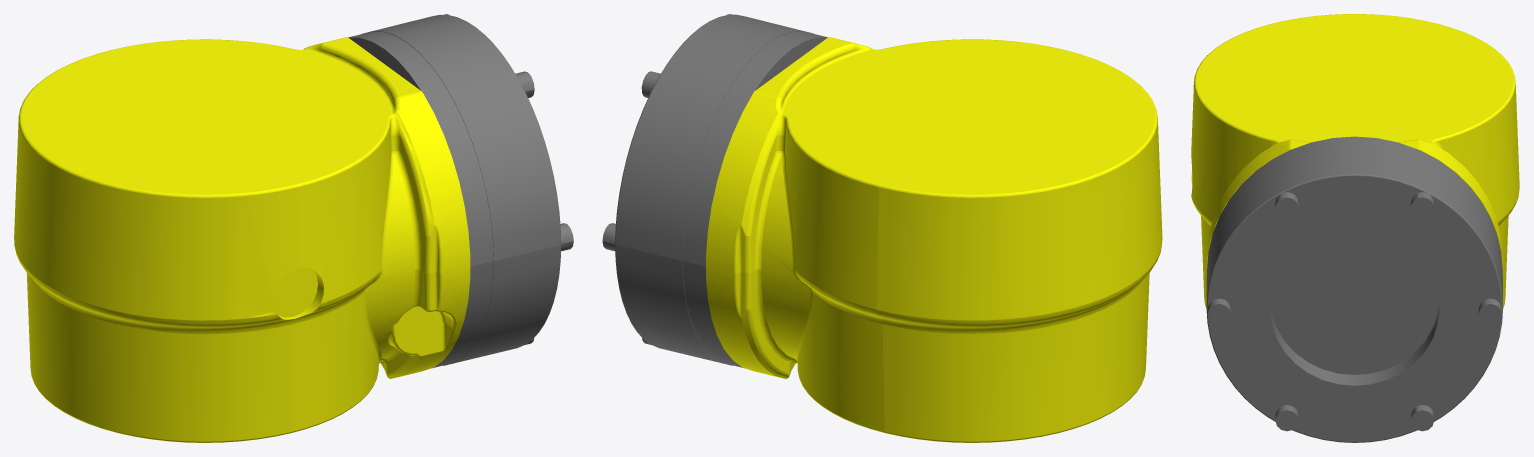
The picture shows the model from 3 angles, left to right: view 1: azimuth 30°, elevation 25°; view 2: azimuth 150°, elevation 25°; view 3: azimuth 270°, elevation 25°; orthographic projection. The views are drawn at different scales.
Parts seen in each view (by area): view 1: Mesh_0; view 2: Mesh_0; view 3: Mesh_0.
Boxes of the visible parts, <box> form: Mesh_0: <box>14,14,573,442</box>; Mesh_0: <box>602,14,1162,442</box>; Mesh_0: <box>1191,14,1519,442</box>.
Size of the model in its own units: 0.1059 by 0.07 by 0.0775.
